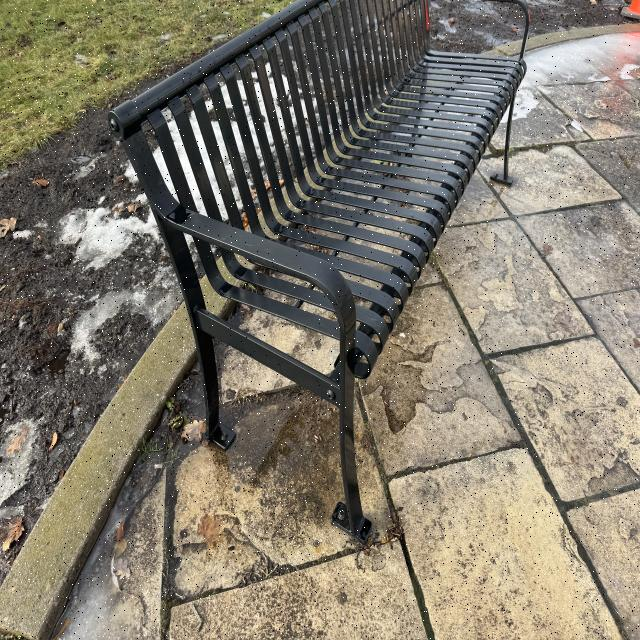Bench: (109, 6, 437, 530)
